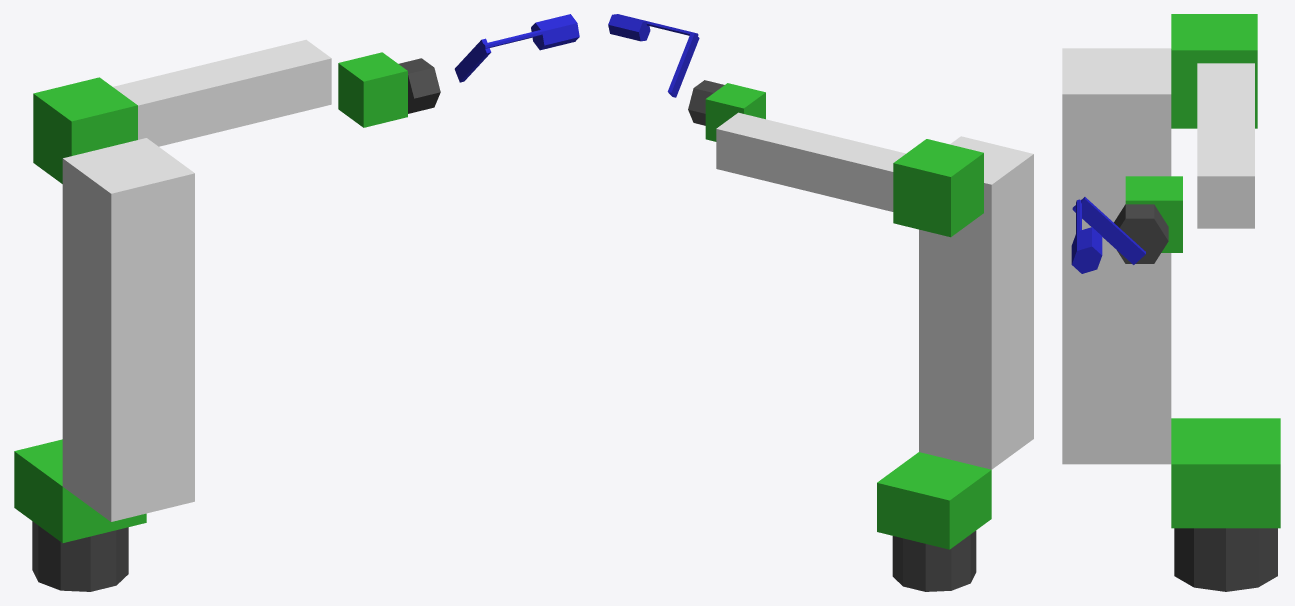
File: crx_10_force_openrave_211027.dae
The picture shows the model from 3 angles, left to right: view 1: azimuth 30°, elevation 25°; view 2: azimuth 150°, elevation 25°; view 3: azimuth 270°, elevation 25°; orthographic projection. The views are drawn at different scales.
Parts seen in each view (by area): view 1: arm2, arm4, arm3, arm1, stand, arm5, ee_link, arm6; view 2: arm2, arm4, arm1, arm3, stand, arm5, ee_link, arm6; view 3: arm2, arm1, arm4, arm3, stand, ee_link, arm5, arm6.
Boxes of the visible parts, bbox=[...] form: arm2: bbox=[62, 138, 194, 521]; arm4: bbox=[113, 39, 331, 146]; arm3: bbox=[33, 77, 137, 183]; arm1: bbox=[14, 439, 146, 542]; stand: bbox=[32, 521, 128, 591]; arm5: bbox=[338, 52, 407, 127]; ee_link: bbox=[454, 14, 579, 82]; arm6: bbox=[399, 58, 440, 113]; arm2: bbox=[919, 136, 1033, 469]; arm4: bbox=[716, 112, 905, 211]; arm1: bbox=[877, 452, 991, 549]; arm3: bbox=[893, 139, 983, 237]; stand: bbox=[892, 530, 976, 591]; arm5: bbox=[705, 83, 765, 141]; ee_link: bbox=[608, 14, 699, 97]; arm6: bbox=[688, 80, 724, 125]; arm2: bbox=[1062, 48, 1171, 464]; arm1: bbox=[1171, 418, 1280, 528]; arm4: bbox=[1197, 63, 1254, 228]; arm3: bbox=[1171, 14, 1257, 128]; stand: bbox=[1174, 528, 1277, 591]; ee_link: bbox=[1071, 197, 1145, 273]; arm5: bbox=[1125, 176, 1182, 252]; arm6: bbox=[1114, 204, 1168, 263].
Size of the model in its own units: 1.07 by 0.38 by 1.07.
